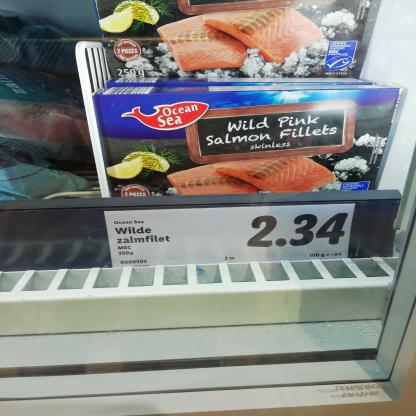prtg: (105, 204, 357, 269)
